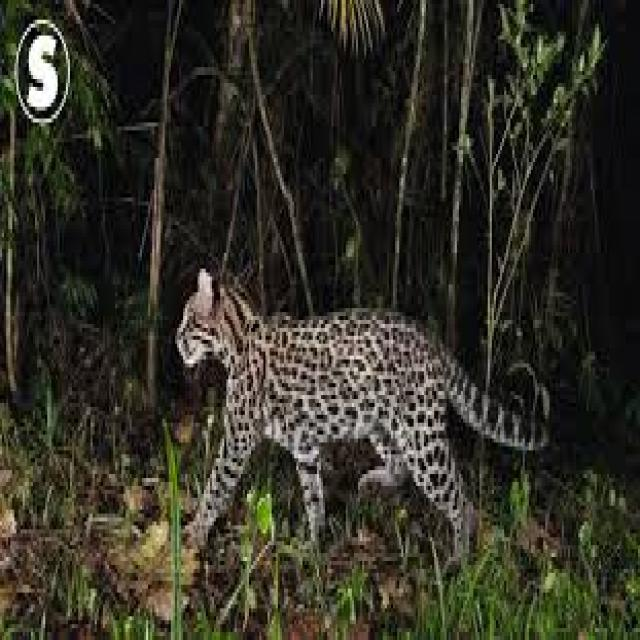Jaguar: (175, 261, 519, 569)
